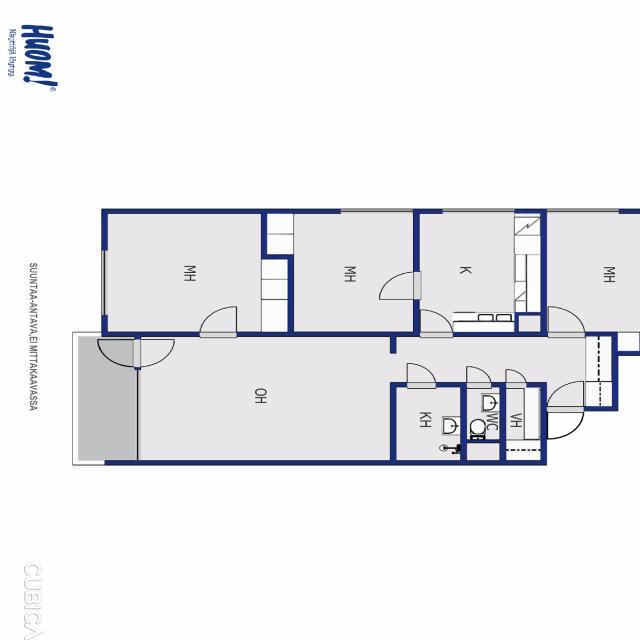door: (98, 339, 141, 367), (135, 339, 177, 367), (377, 272, 419, 299), (548, 406, 583, 438), (548, 305, 584, 336), (200, 305, 236, 336), (548, 380, 583, 411), (420, 308, 452, 336), (408, 361, 436, 387), (467, 364, 490, 387), (506, 368, 526, 387)
